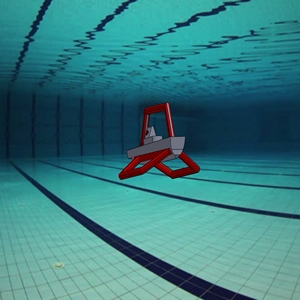submarine: (112, 95, 211, 187)
